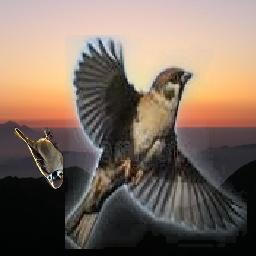Sparrow: (65, 35, 247, 249), (15, 127, 64, 190)
